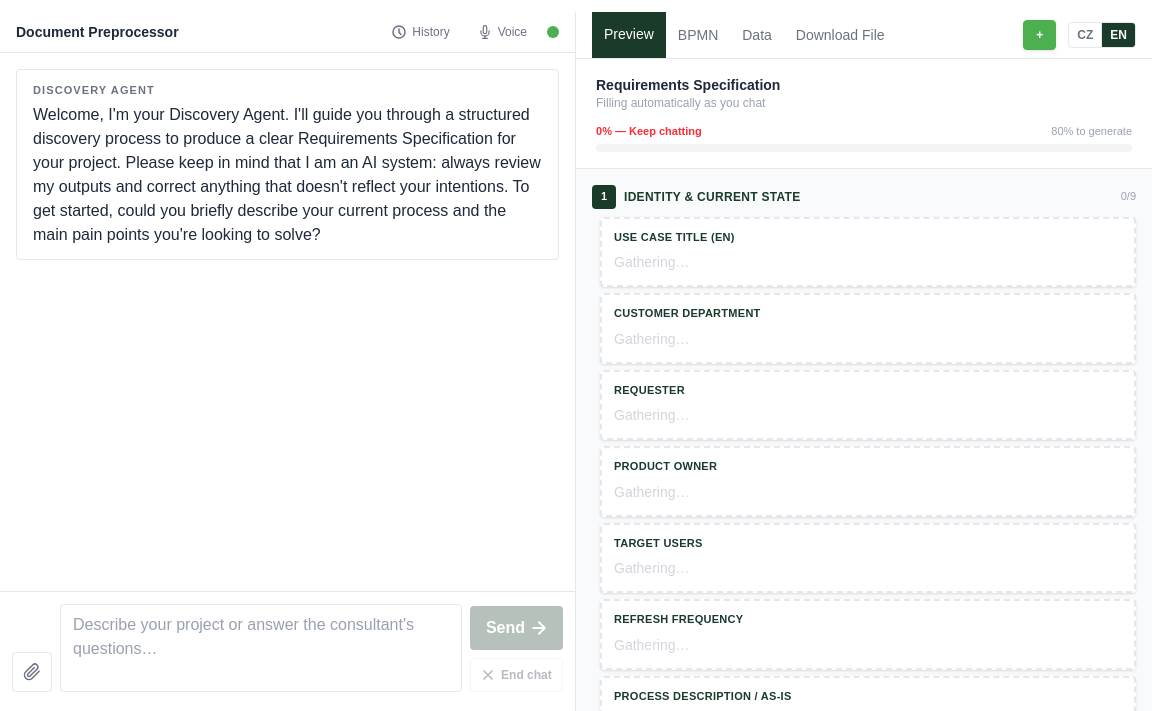
Scenario: ChatPage — error state › dismisses the error card when ✕ is clicked
This screenshot has width=1152, height=711.
Type "Trigger error" into the text box with placeholder "Describe your project or answer the consultant's questions…" at [261, 648], box [60,604,462,692]
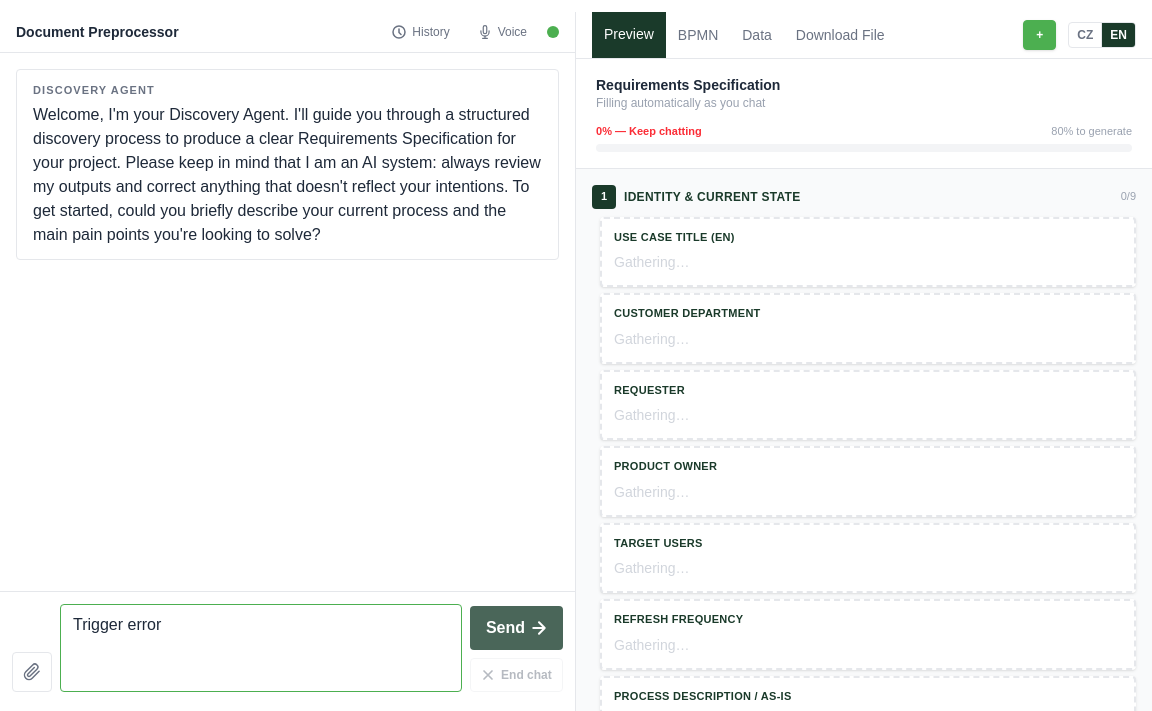
Click the button "Send" at [516, 628], box [470,606,563,650]
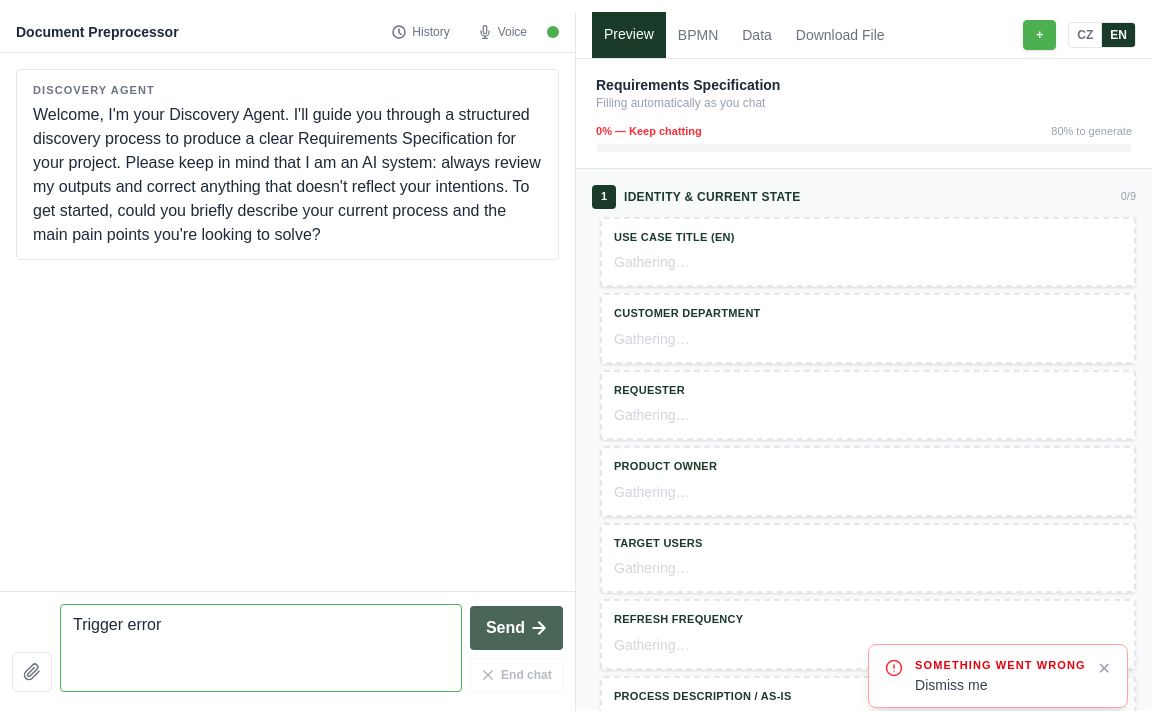
Now the text "Dismiss me" is shown, box [915,677,987,693]
Click the button named "Close" at [1104, 668], box [1098,656,1111,680]
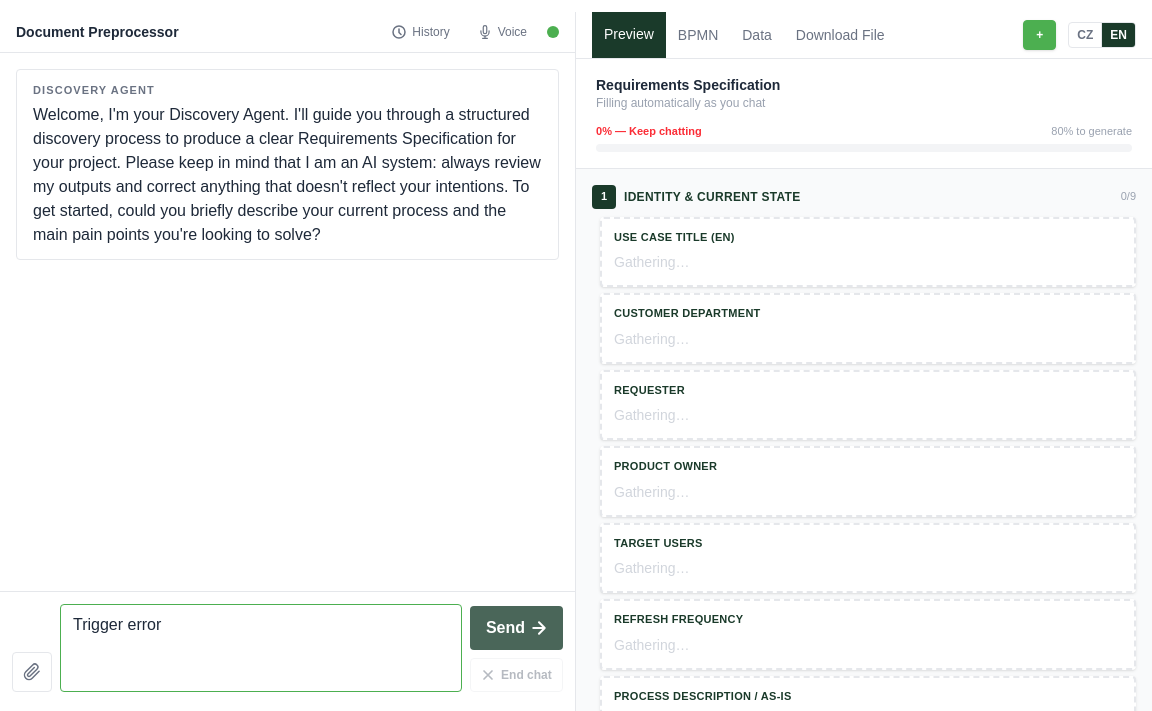
Now the text "Dismiss me" is gone
